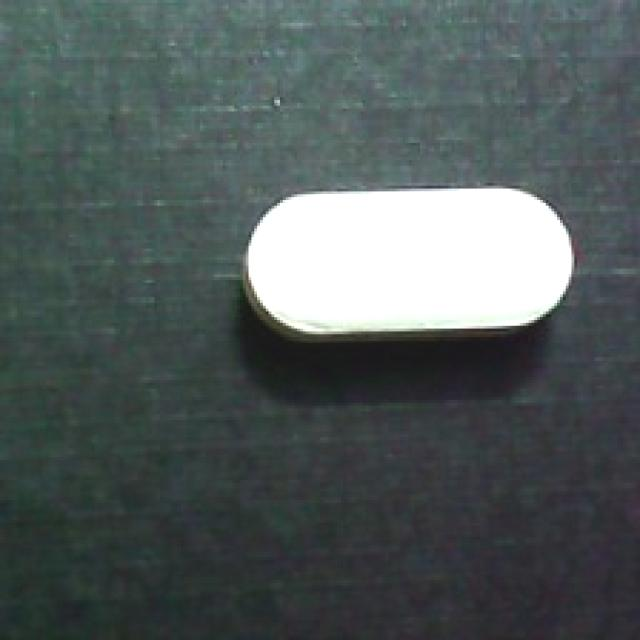no-defect: (240, 186, 580, 349)
